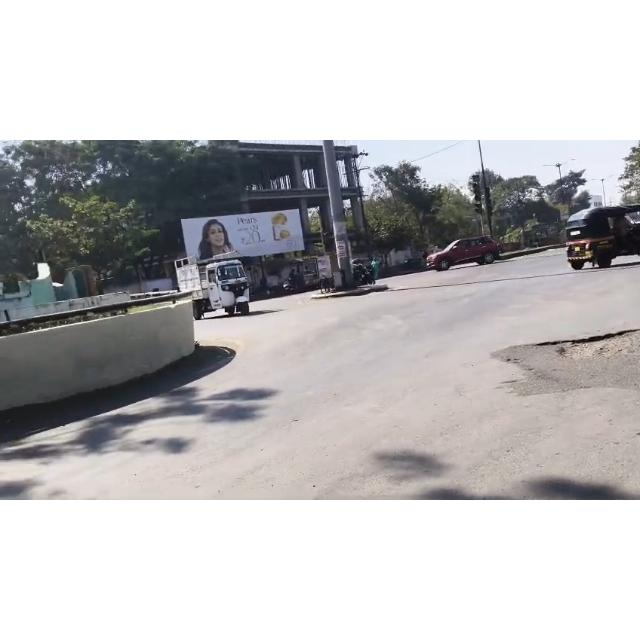auto: (567, 203, 640, 276)
car: (422, 231, 508, 271)
